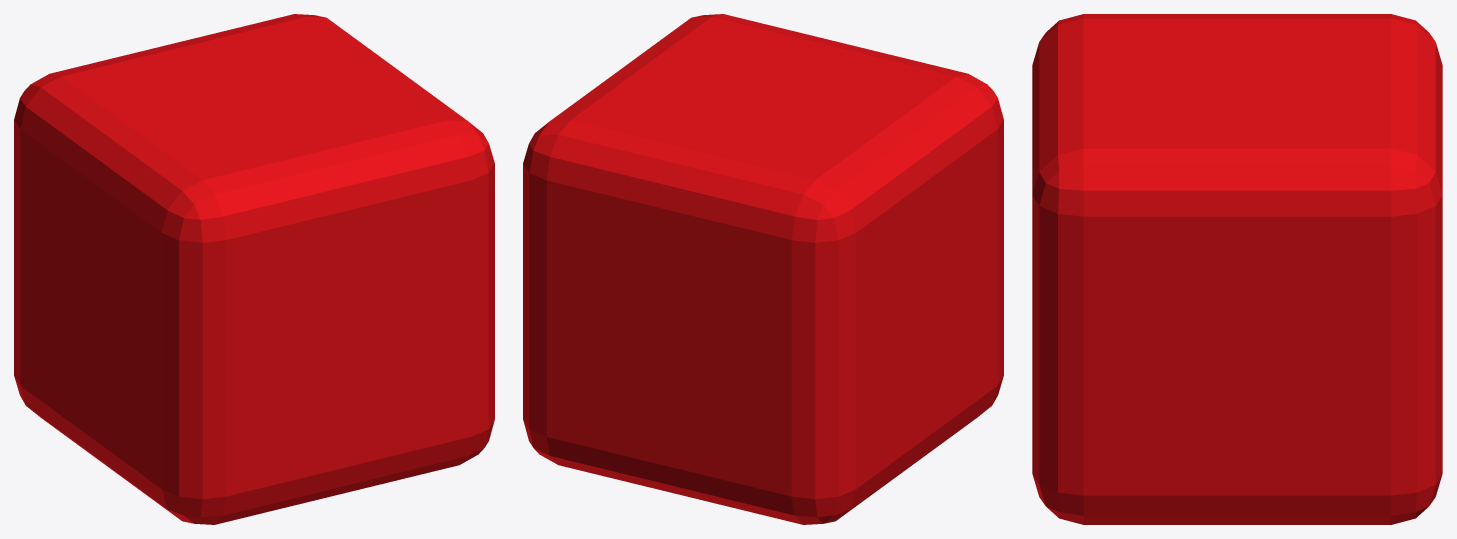
The model's file is Block.fbx.
3 renders of one model, left to right at view 1: azimuth 30°, elevation 25°; view 2: azimuth 150°, elevation 25°; view 3: azimuth 270°, elevation 25°, orthographic. The views are drawn at different scales.
Parts seen in each view (by area): view 1: Cube LP; view 2: Cube LP; view 3: Cube LP.
Part boxes in pixels (bbox=[...]): Cube LP: bbox=[14, 14, 494, 524]; Cube LP: bbox=[523, 14, 1003, 524]; Cube LP: bbox=[1032, 14, 1442, 524].
Size of the model in its own units: 200 by 200 by 200.
